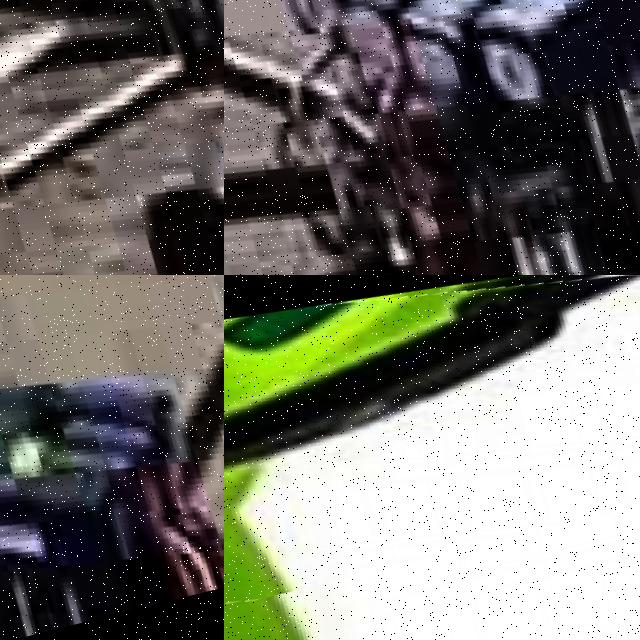drone: (224, 275, 640, 640), (224, 0, 640, 275), (0, 275, 224, 640), (0, 0, 224, 275)
